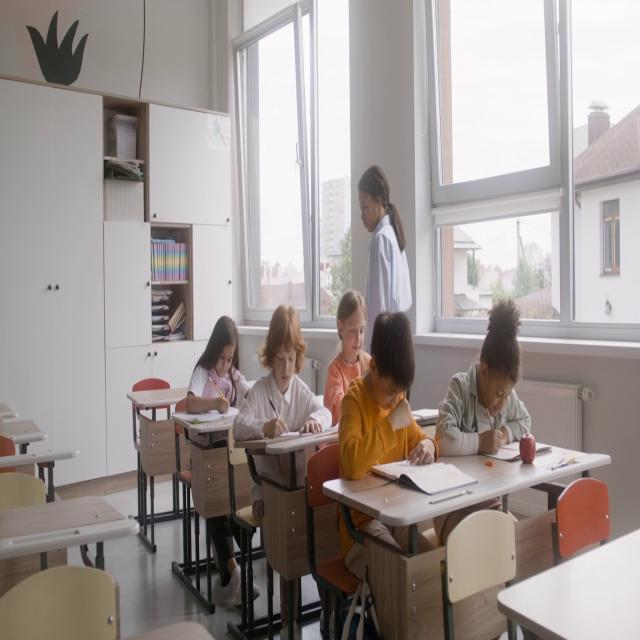reading: (323, 290, 368, 436)
writing: (347, 310, 480, 630), (185, 320, 262, 607), (236, 305, 331, 478), (438, 300, 530, 459)
